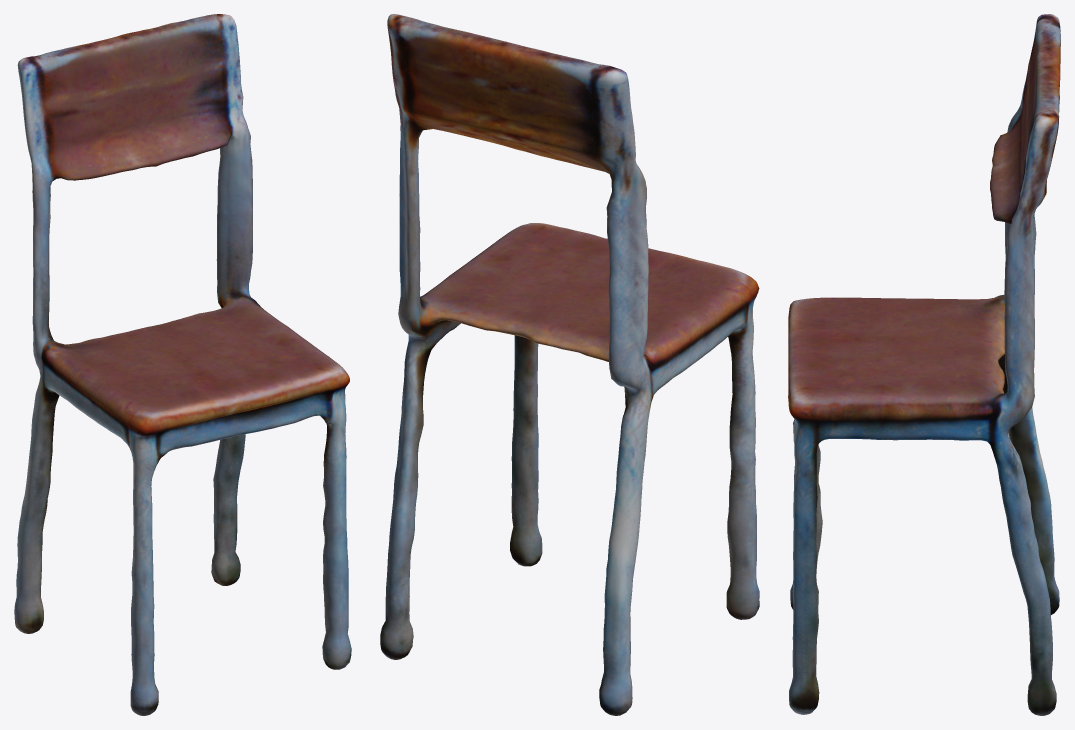
File: 25f0f01405c7_chair_min.fbx
3 renders of one model, left to right at view 1: azimuth 30°, elevation 25°; view 2: azimuth 150°, elevation 25°; view 3: azimuth 270°, elevation 25°, orthographic. The views are drawn at different scales.
Parts seen in each view (by area): view 1: mesh; view 2: mesh; view 3: mesh.
Part boxes in pixels (<box>): mesh: <box>14,14,351,715</box>; mesh: <box>380,14,759,715</box>; mesh: <box>788,14,1060,715</box>.
Size of the model in its own units: 40.23 by 99.97 by 41.15.
